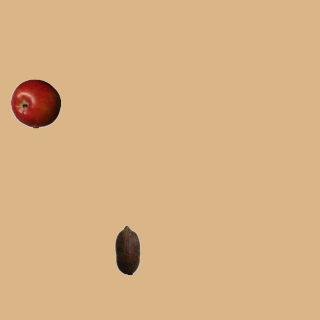Apple Braeburn: (10, 78, 60, 128)
Nut Pecan: (102, 224, 152, 274)
